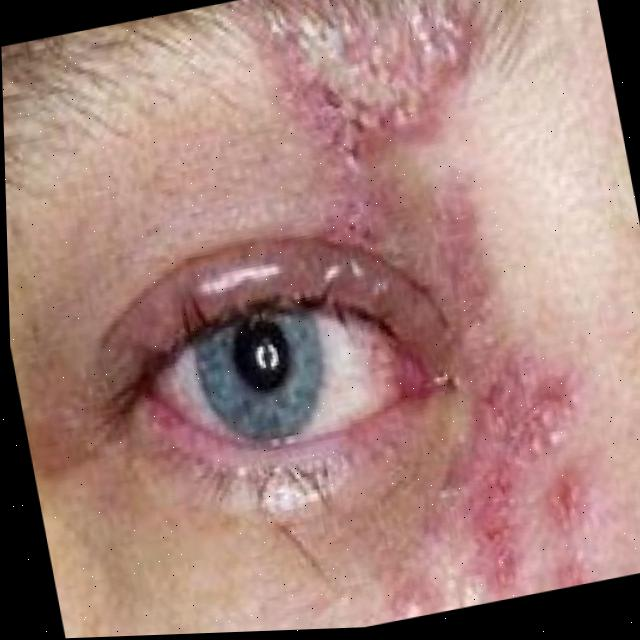Shingles: (239, 0, 502, 256), (421, 352, 620, 609)
